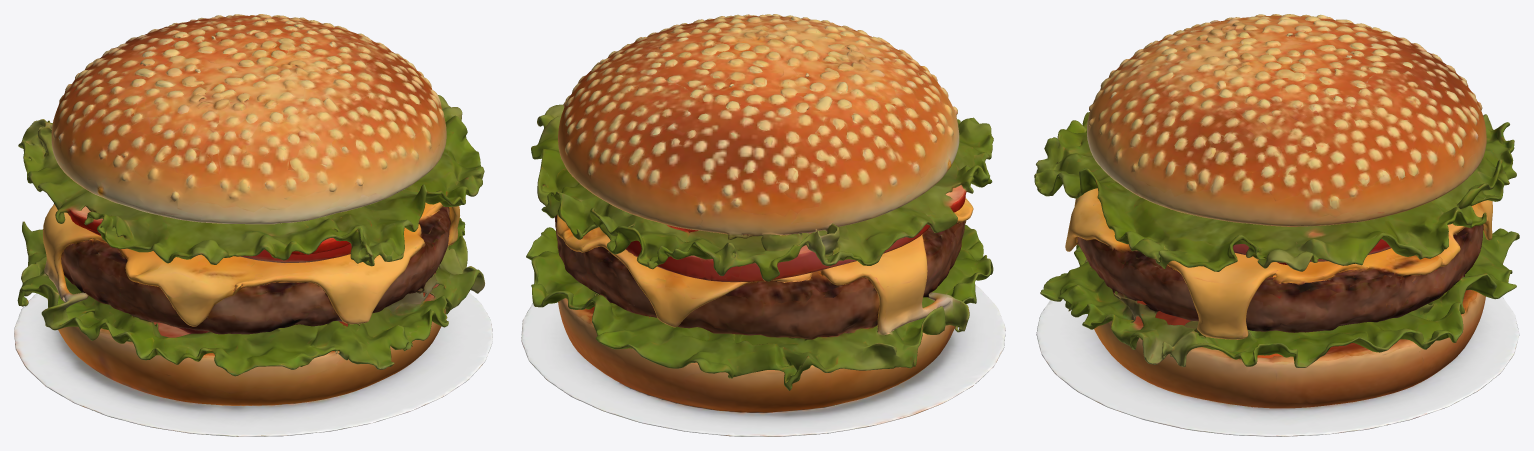
File: burger.glb
3 views of the same model, side by side, from view 1: azimuth 30°, elevation 25°; view 2: azimuth 150°, elevation 25°; view 3: azimuth 270°, elevation 25° (orthographic).
Visible parts, largest first — view 1: world; view 2: world; view 3: world.
Boxes of the visible parts, x1=… form: world: x1=14, y1=14, x2=492, y2=436; world: x1=521, y1=14, x2=1005, y2=436; world: x1=1034, y1=14, x2=1519, y2=436.
Size of the model in its own units: 1 by 0.6435 by 0.9992.
1 material, 1 textured.
